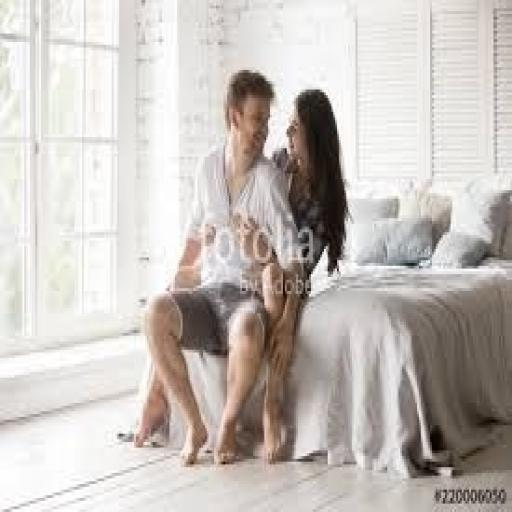hugging: (130, 67, 350, 470)
